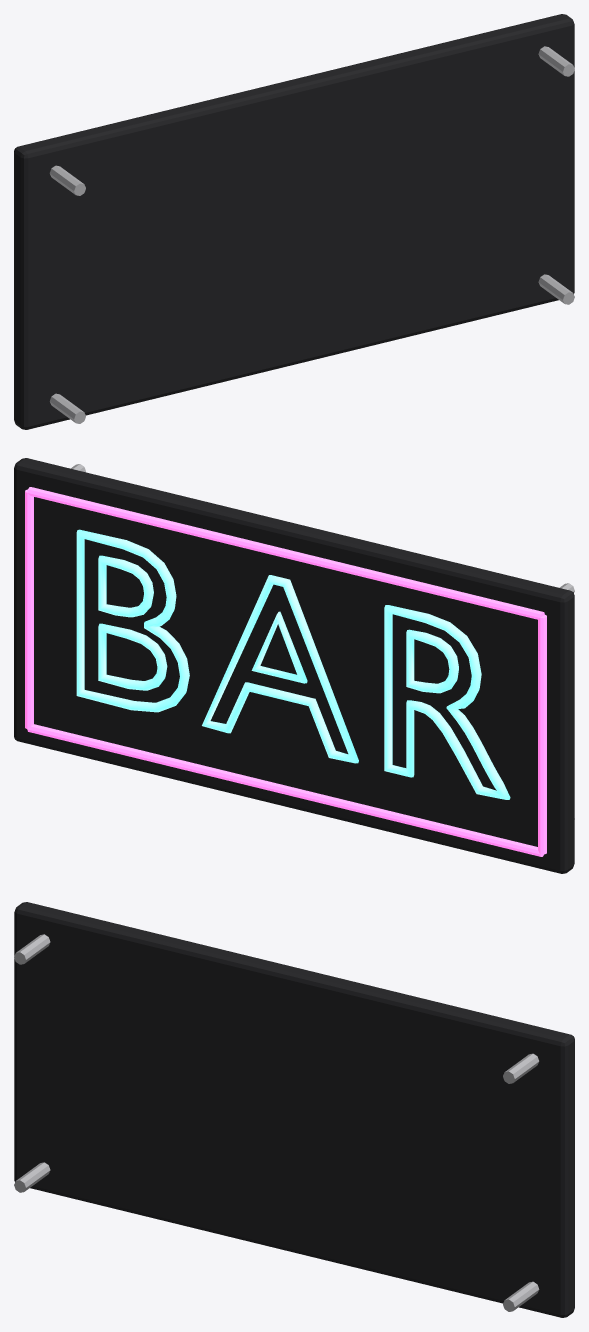
The model's file is neon_sign_bar.glb.
The picture shows the model from 3 angles, top to bottom: view 1: azimuth 30°, elevation 25°; view 2: azimuth 150°, elevation 25°; view 3: azimuth 330°, elevation 25°; orthographic projection.
Parts seen in each view (by area): view 1: neon_sign_bar; view 2: neon_sign_bar; view 3: neon_sign_bar.
Part boxes in pixels (bbox=[...]): neon_sign_bar: bbox=[14, 14, 574, 429]; neon_sign_bar: bbox=[14, 458, 574, 873]; neon_sign_bar: bbox=[14, 902, 574, 1317].
Bounding box in the file's own units: 1.37 × 0.66 × 0.181.
